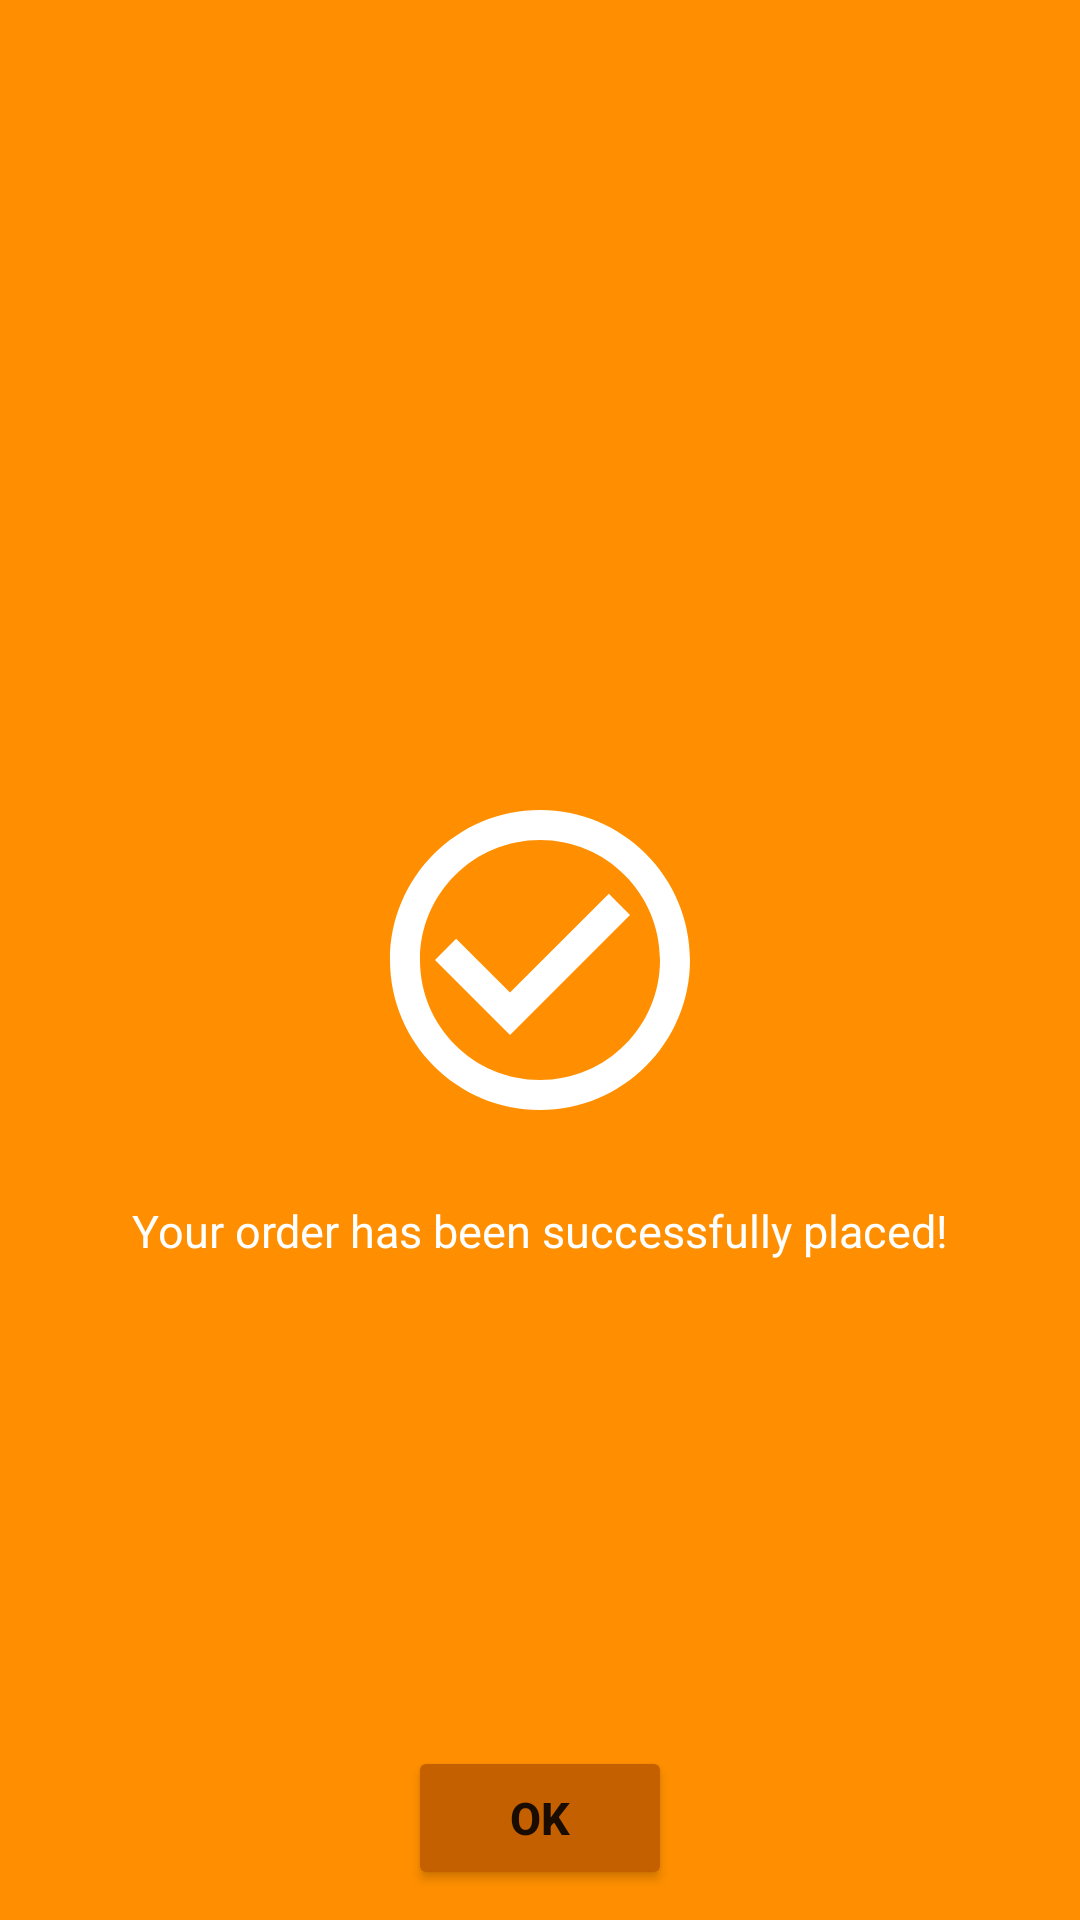

Named icons in this screenshot (1080 x 1920) and their bounding boxes, {"x1": x1, "y1": y1, "x2": x2, "y2": y2}:
check circle: {"x1": 390, "y1": 810, "x2": 690, "y2": 1110}
